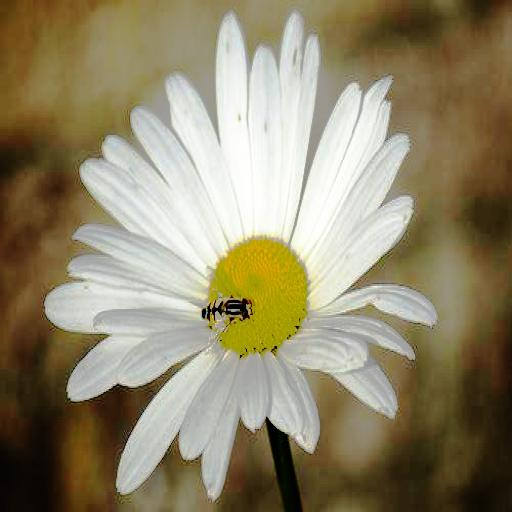daisy: (57, 12, 428, 482)
